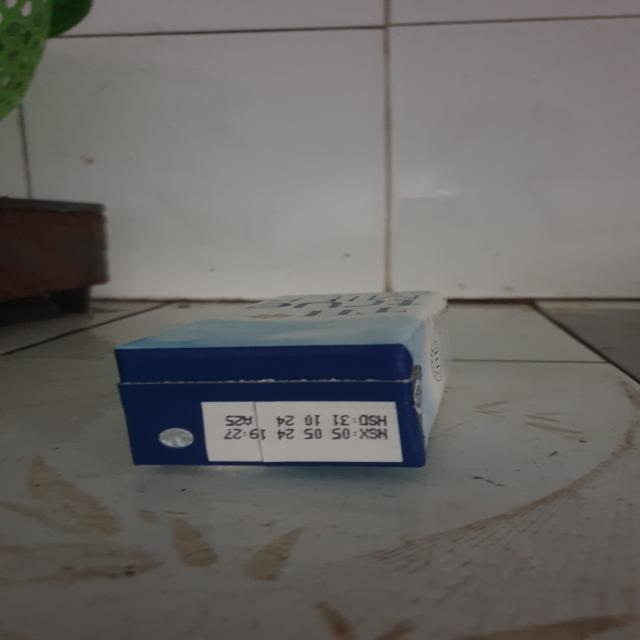TH: (115, 295, 450, 468)
